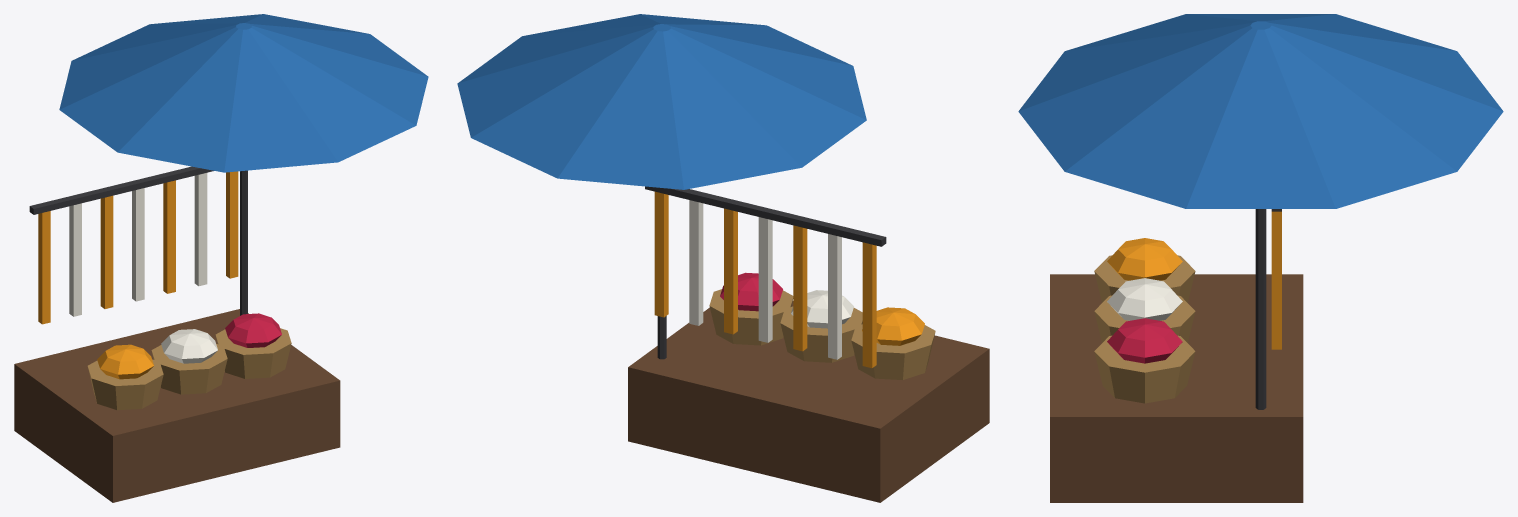
The model's file is prop_flower_stall.glb.
The picture shows the model from 3 angles, left to right: view 1: azimuth 30°, elevation 25°; view 2: azimuth 150°, elevation 25°; view 3: azimuth 270°, elevation 25°; orthographic projection. The views are drawn at different scales.
Visible parts, largest first — view 1: prop_flower_stall; view 2: prop_flower_stall; view 3: prop_flower_stall.
Boxes of the visible parts, <box> form: prop_flower_stall: <box>14,14,428,502</box>; prop_flower_stall: <box>457,14,989,502</box>; prop_flower_stall: <box>1018,14,1503,502</box>.
Size of what is drawn, in the model's own units: 2.59 by 2.45 by 2.3.
